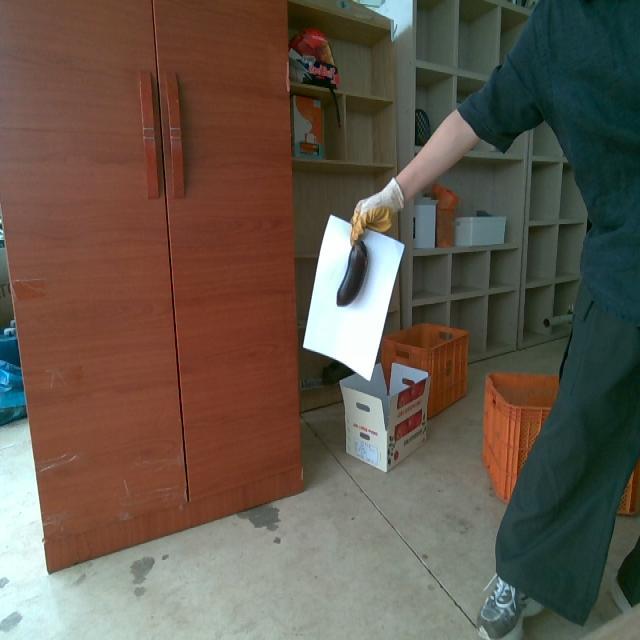Egg plant: (337, 240, 367, 305)
